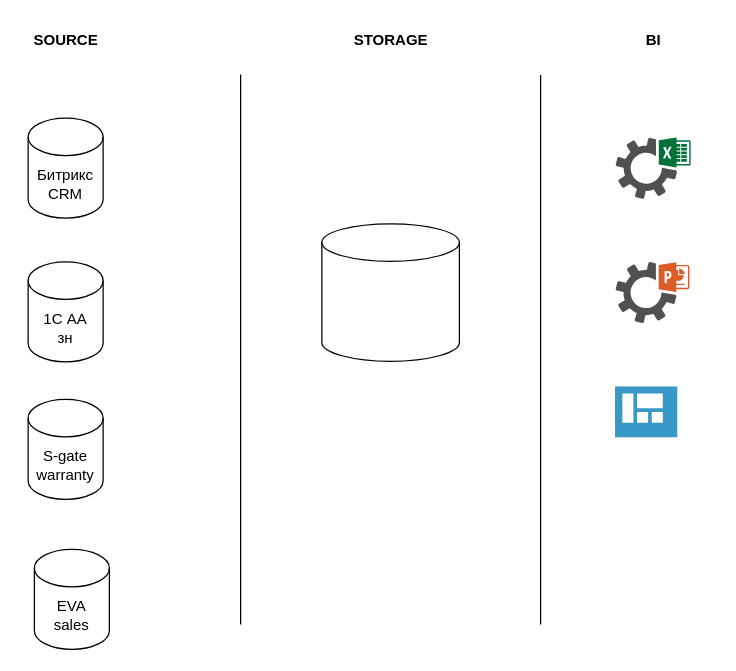
This 736x671 diagram has some shape labels left out. The centre of each missing label's shape, as x and y in pixels:
Power BI dashboard: [646,412]
Server 1C: [390,291]
